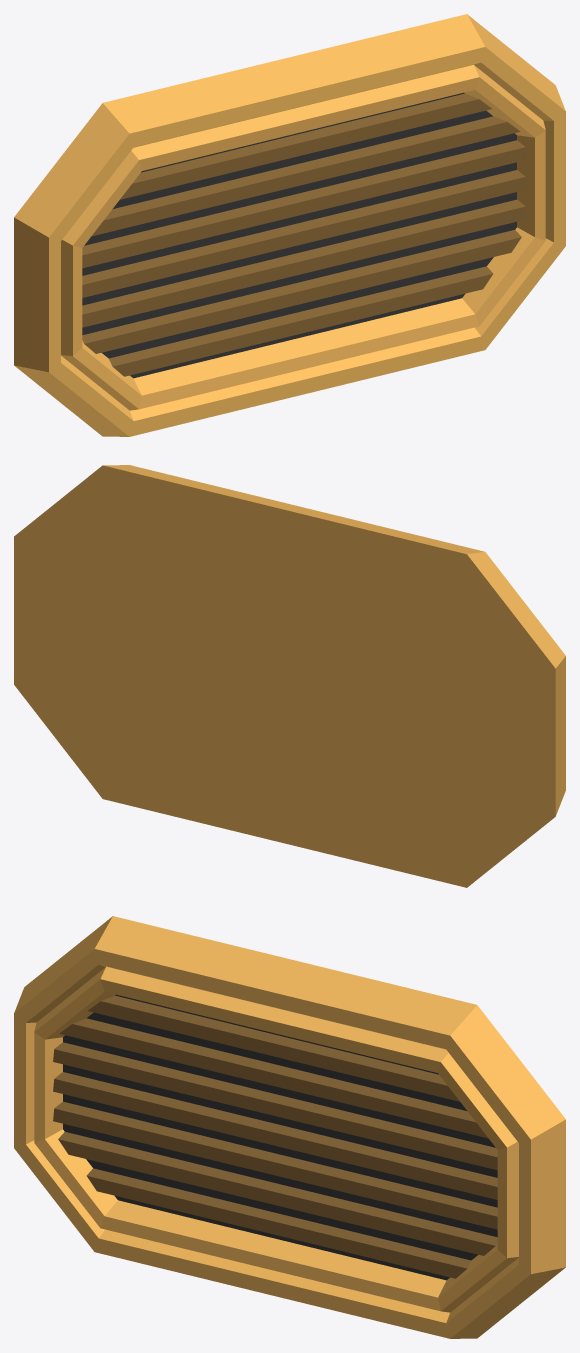
File: details_vent_1.obj
The picture shows the model from 3 angles, top to bottom: view 1: azimuth 30°, elevation 25°; view 2: azimuth 150°, elevation 25°; view 3: azimuth 330°, elevation 25°; orthographic projection.
Visible parts, largest first — view 1: details_vent_1; view 2: details_vent_1; view 3: details_vent_1.
Part boxes in pixels (<box>): details_vent_1: <box>14,14,565,436</box>; details_vent_1: <box>14,465,565,887</box>; details_vent_1: <box>14,916,565,1338</box>.
Bounding box in the file's own units: 0.5265 × 0.3099 × 0.0413.
